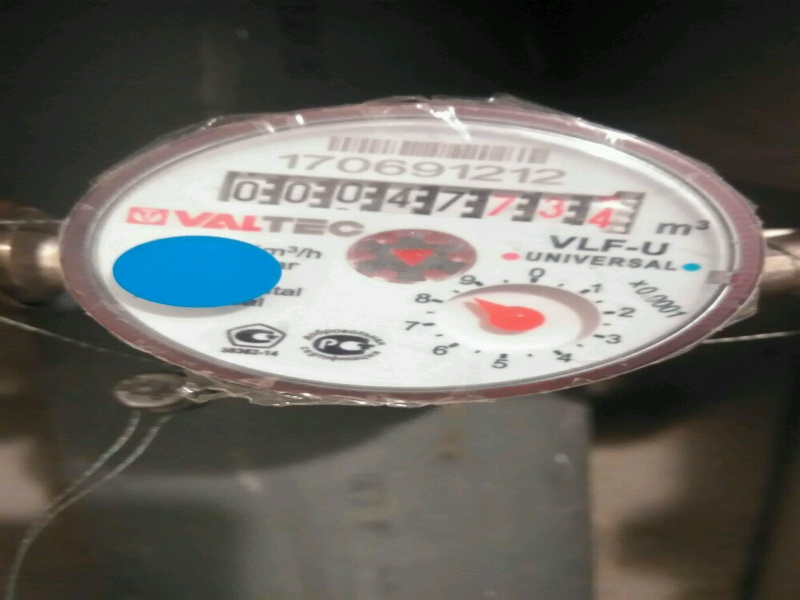meter: (223, 176, 636, 229)
